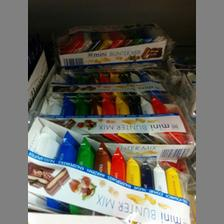Schokolade: (27, 115, 195, 223), (32, 95, 196, 159), (58, 26, 166, 66), (38, 72, 174, 98)
